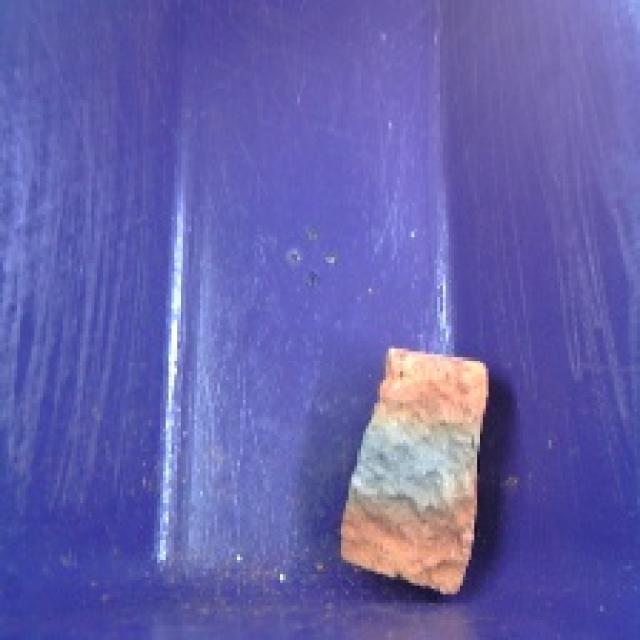brick: (328, 333, 498, 612)
